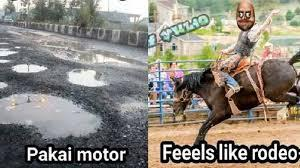Pothole: (0, 89, 106, 146), (34, 29, 147, 76), (114, 87, 156, 123), (64, 65, 107, 94), (0, 32, 28, 71), (11, 64, 50, 75), (0, 77, 11, 89)
